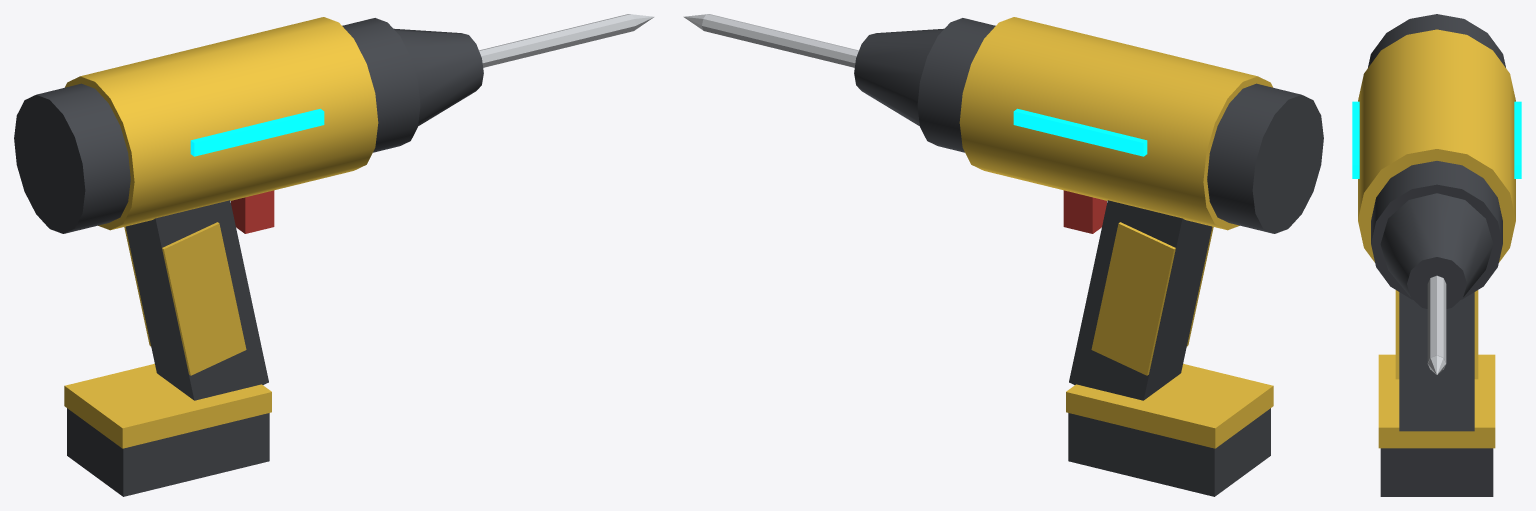
File: FV_Tool_Drill.fbx
3 renders of one model, left to right at view 1: azimuth 30°, elevation 25°; view 2: azimuth 150°, elevation 25°; view 3: azimuth 270°, elevation 25°, orthographic.
Parts seen in each view (by area): view 1: Tool_Drill; view 2: Tool_Drill; view 3: Tool_Drill.
Boxes of the visible parts, left/top/right/bottom form: Tool_Drill: left=14, top=14, right=654, bottom=496; Tool_Drill: left=683, top=14, right=1323, bottom=496; Tool_Drill: left=1352, top=14, right=1521, bottom=496.
Size of the model in its own units: 0.3725 by 0.232 by 0.09.
